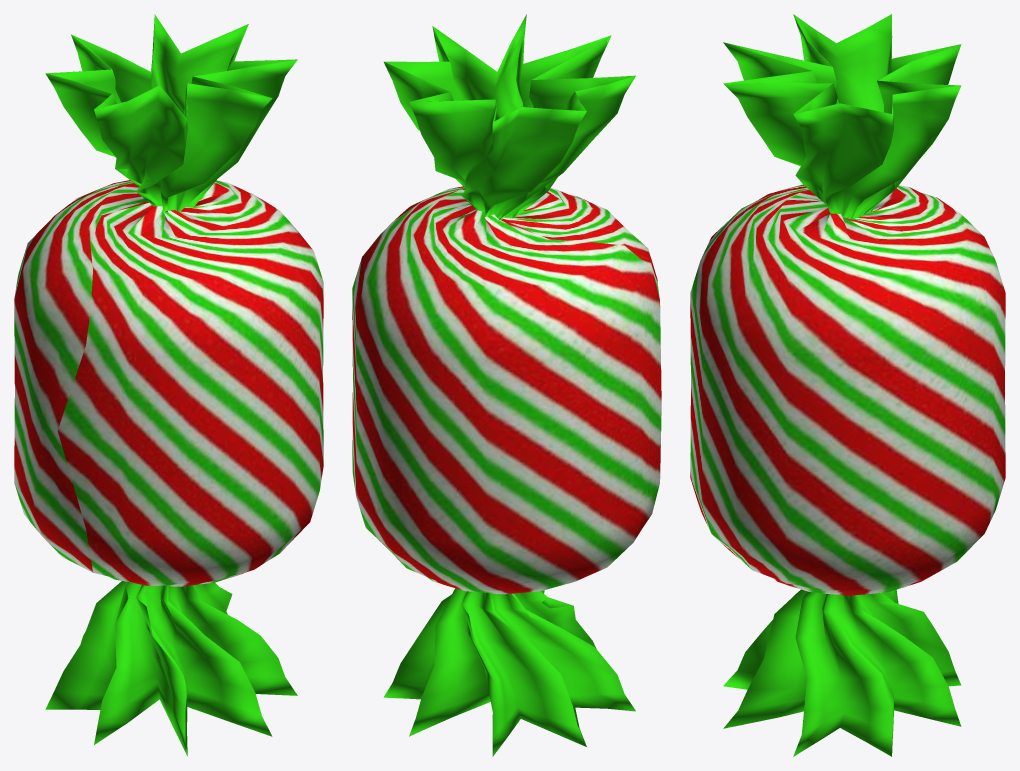
The model's file is Candy Short Fat.fbx.
3 views of the same model, side by side, from view 1: azimuth 30°, elevation 25°; view 2: azimuth 150°, elevation 25°; view 3: azimuth 270°, elevation 25° (orthographic).
Parts seen in each view (by area): view 1: Candy Short Fat; view 2: Candy Short Fat; view 3: Candy Short Fat.
Boxes of the visible parts, x1,y1,x2,y2 form: Candy Short Fat: [14, 14, 323, 756]; Candy Short Fat: [352, 14, 661, 756]; Candy Short Fat: [690, 14, 1005, 756].
Bounding box in the file's own units: 70.87 × 160 × 70.75.
